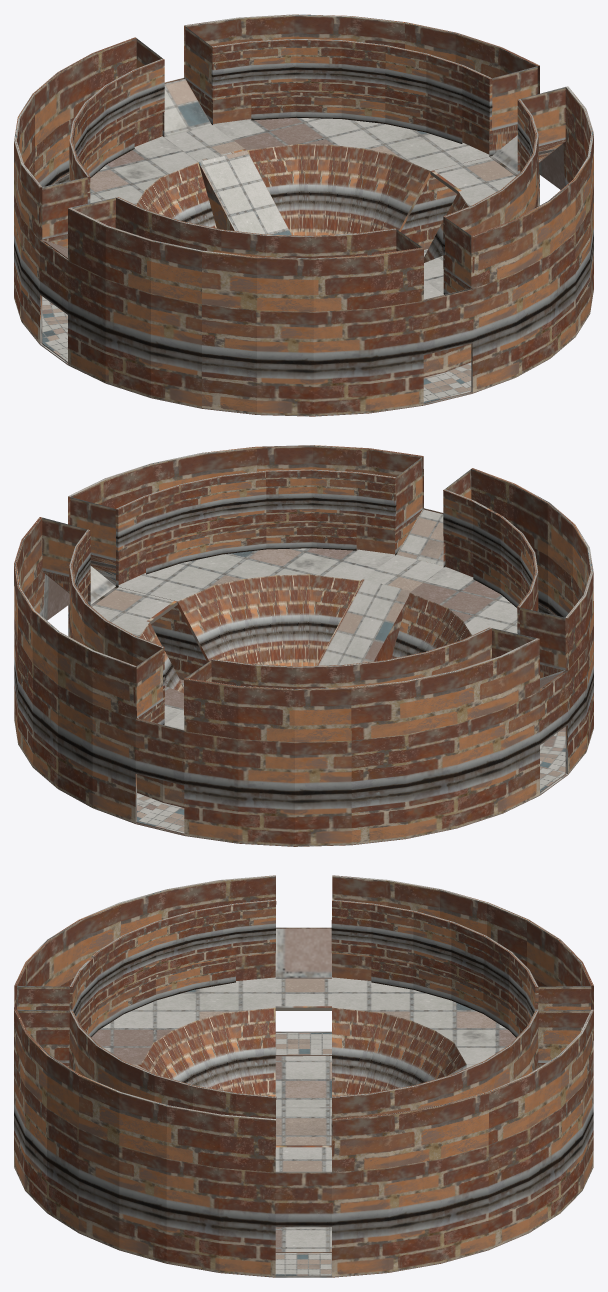
The model's file is tile10.dae.
The picture shows the model from 3 angles, top to bottom: view 1: azimuth 30°, elevation 25°; view 2: azimuth 150°, elevation 25°; view 3: azimuth 270°, elevation 25°; orthographic projection.
Visible parts, largest first — view 1: Cube; view 2: Cube; view 3: Cube.
Boxes of the visible parts, bbox=[...] form: Cube: bbox=[14, 14, 593, 416]; Cube: bbox=[14, 445, 593, 846]; Cube: bbox=[14, 875, 593, 1277].
Bounding box in the file's own units: 50.02 × 50.02 × 15.1.
1 material, 1 textured.
